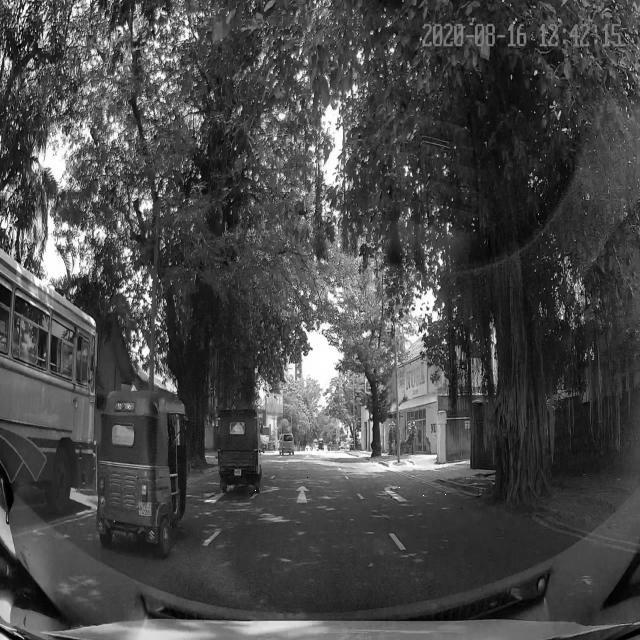forward: (241, 477, 377, 513)
right: (353, 477, 462, 517)
